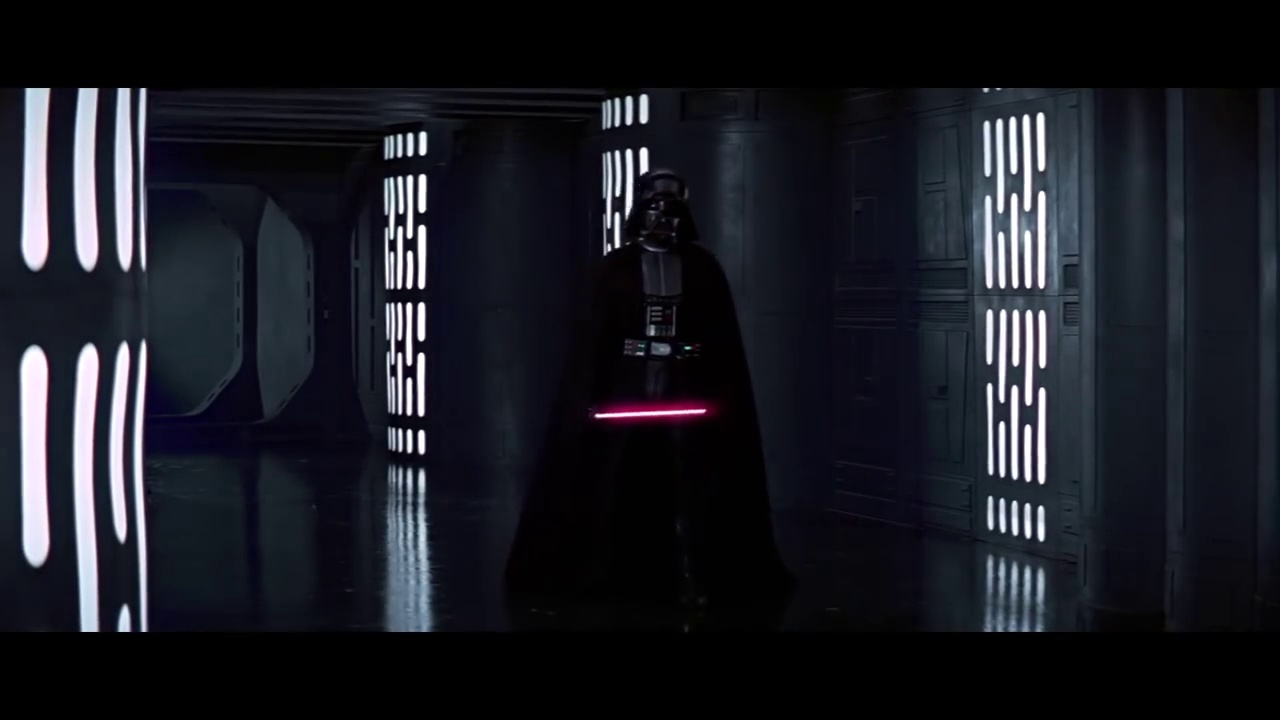lightsaber: (579, 407, 718, 431)
